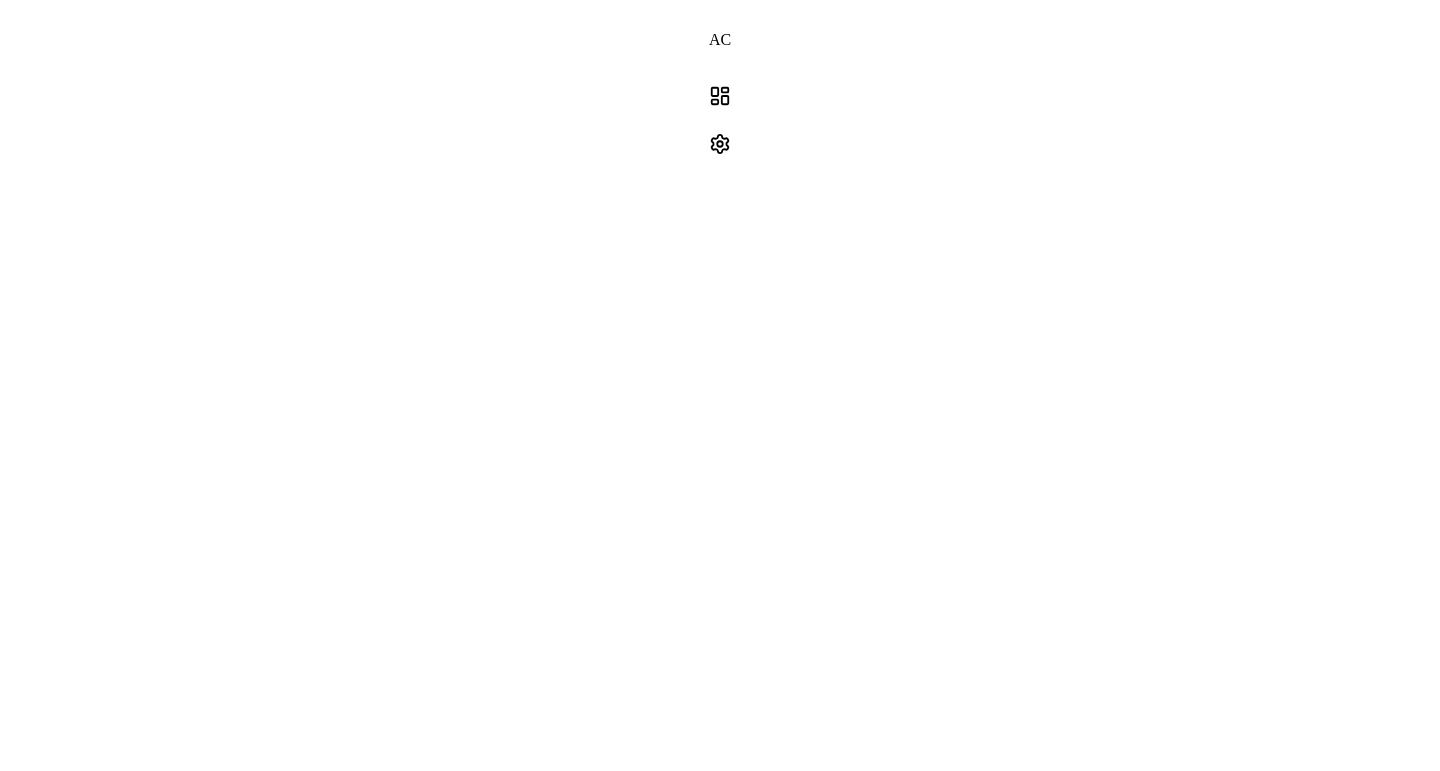
Test case: RailShell (en) › fly-outs with the pointer › opens one fly-out at a time
Hover over the button named "Planning" at (720, 96), box [8,72,1432,120]
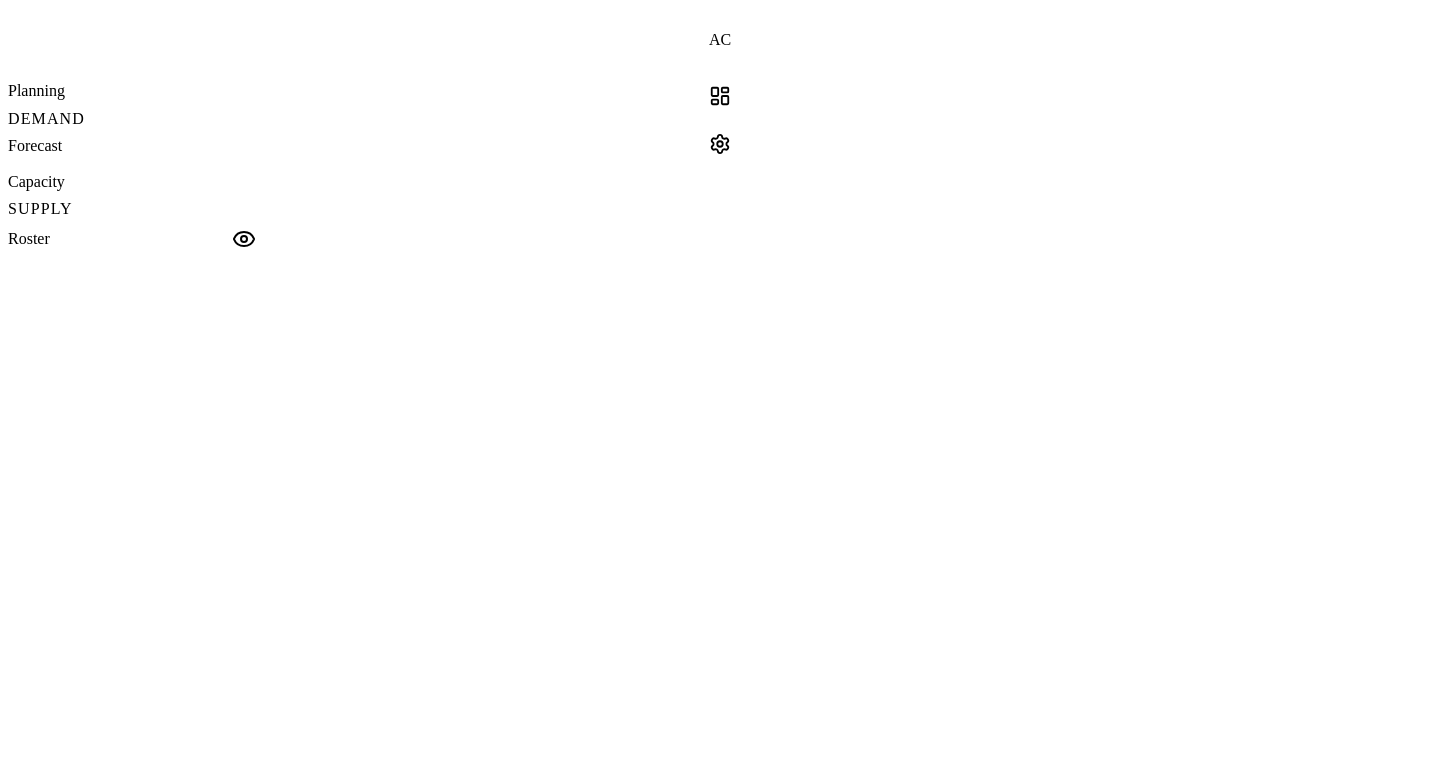
Hover over the button named "Administration" at (720, 144), box [8,120,1432,168]
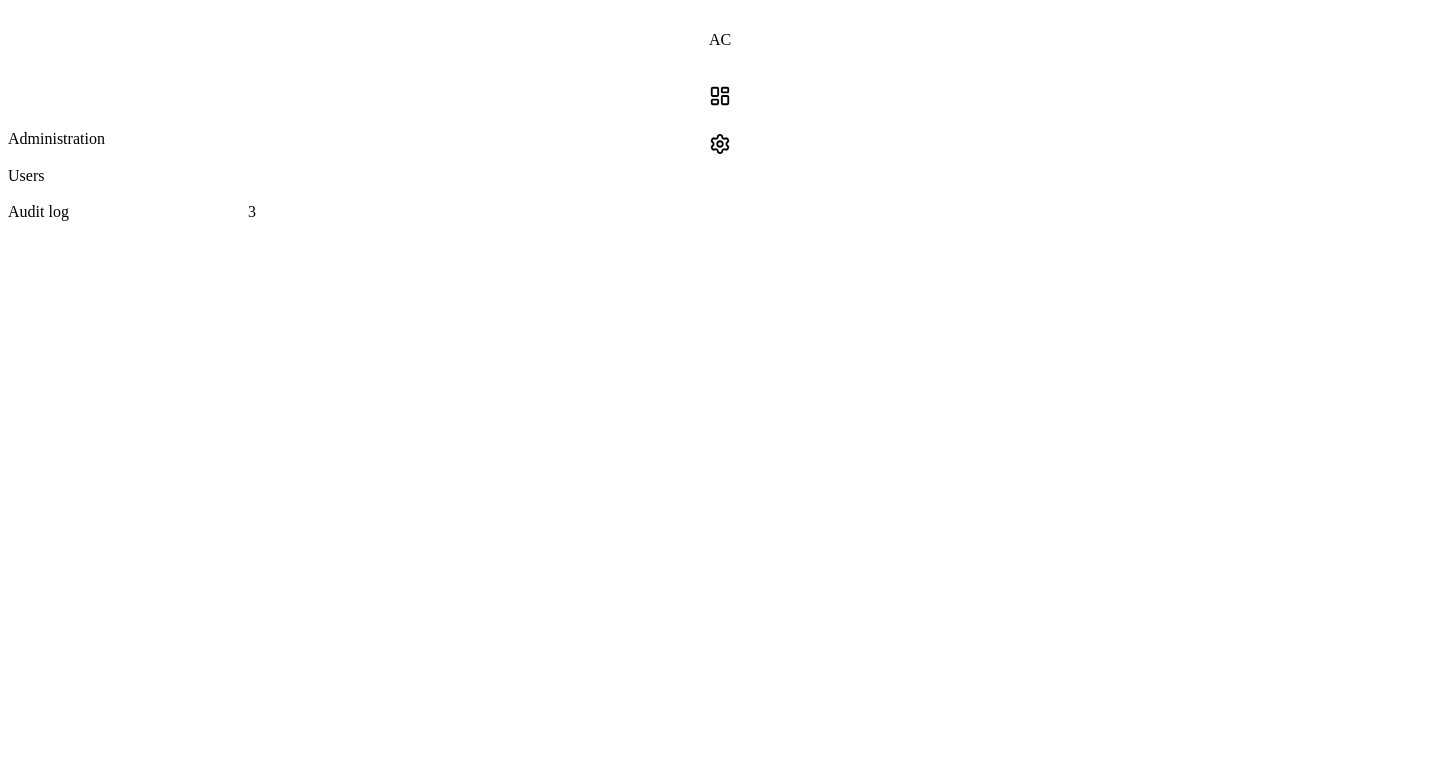
Now the text "Planning" is gone
Now the element "Administration" is shown, box [8,120,256,230]
